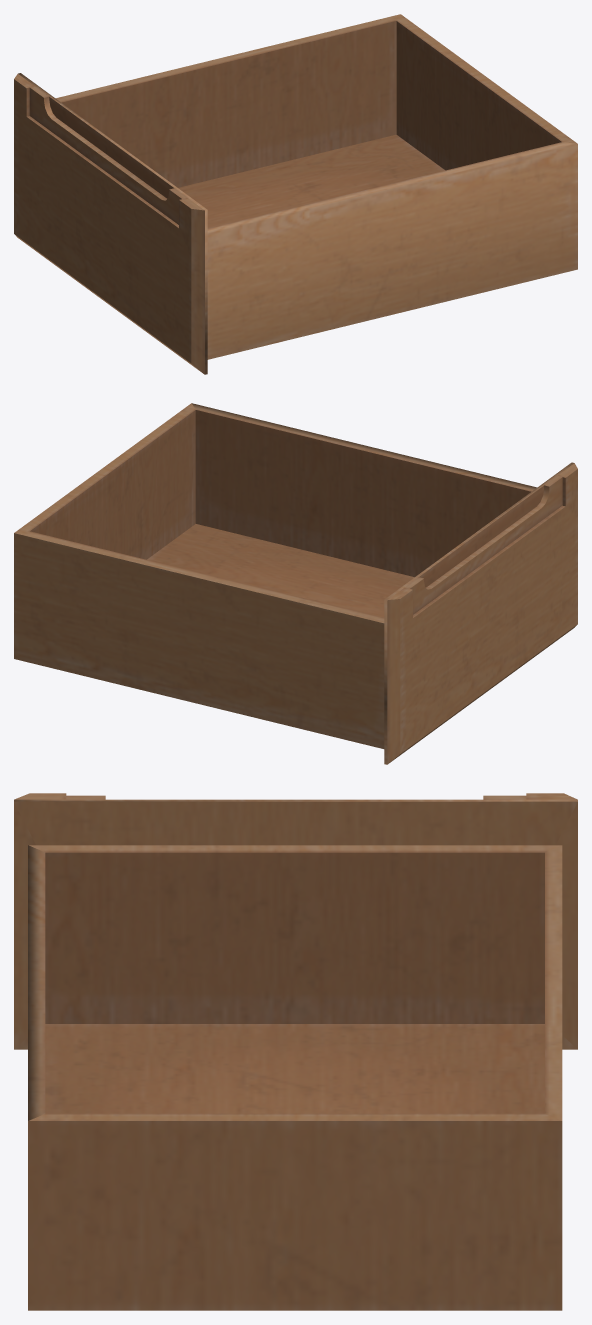
File: SM_Shelf_TV_A1_Door5.fbx
3 renders of one model, top to bottom at view 1: azimuth 30°, elevation 25°; view 2: azimuth 150°, elevation 25°; view 3: azimuth 270°, elevation 25°, orthographic. The views are drawn at different scales.
Parts seen in each view (by area): view 1: SM_Shelf_TV_A1_Door5; view 2: SM_Shelf_TV_A1_Door5; view 3: SM_Shelf_TV_A1_Door5.
Boxes of the visible parts, bbox=[...] form: SM_Shelf_TV_A1_Door5: bbox=[14, 14, 577, 374]; SM_Shelf_TV_A1_Door5: bbox=[14, 403, 577, 764]; SM_Shelf_TV_A1_Door5: bbox=[14, 793, 577, 1310].
Size of the model in its own units: 45.67 by 38.3 by 18.57.
1 material, 1 textured.
